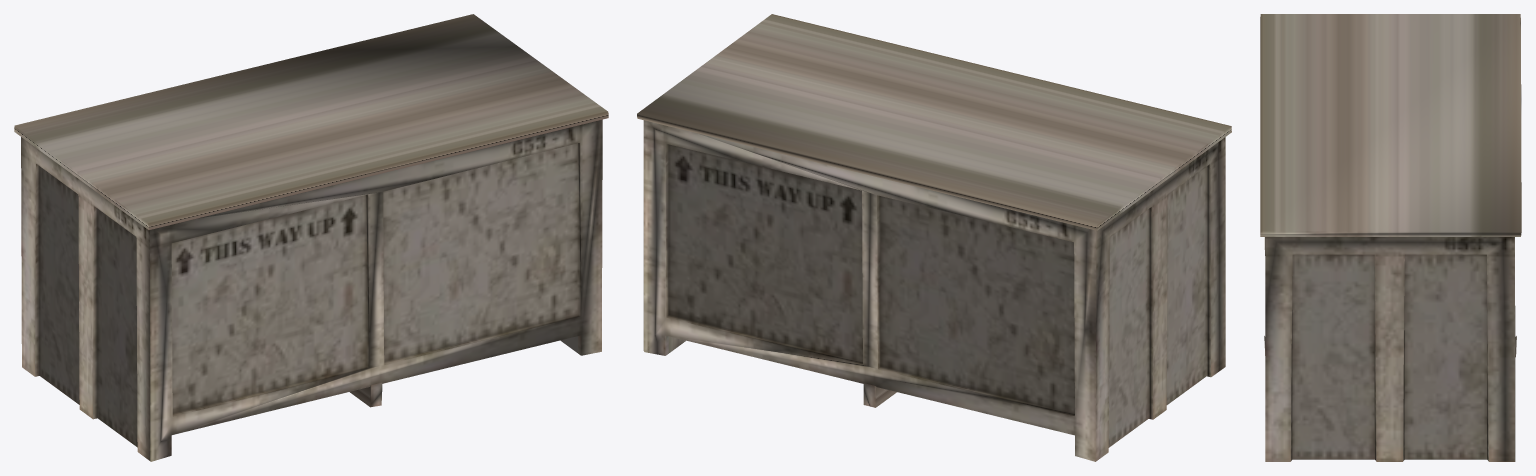
Rendered from wooden_crate_c_red.glb.
3 views of the same model, side by side, from view 1: azimuth 30°, elevation 25°; view 2: azimuth 150°, elevation 25°; view 3: azimuth 270°, elevation 25° (orthographic). The views are drawn at different scales.
Parts seen in each view (by area): view 1: wooden_crate_c_red; view 2: wooden_crate_c_red; view 3: wooden_crate_c_red.
Boxes of the visible parts, x1,y1,x2,y2 form: wooden_crate_c_red: [14, 14, 608, 461]; wooden_crate_c_red: [637, 14, 1231, 461]; wooden_crate_c_red: [1260, 14, 1521, 461].
Size of the model in its own units: 2.03 by 1.02 by 1.03.
1 material, 1 textured.
